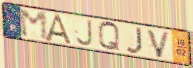A: (44, 13, 75, 47)
J: (75, 18, 95, 47), (125, 27, 144, 56)
M: (17, 9, 51, 43)
Q: (97, 20, 122, 53)
V: (146, 28, 172, 60)
